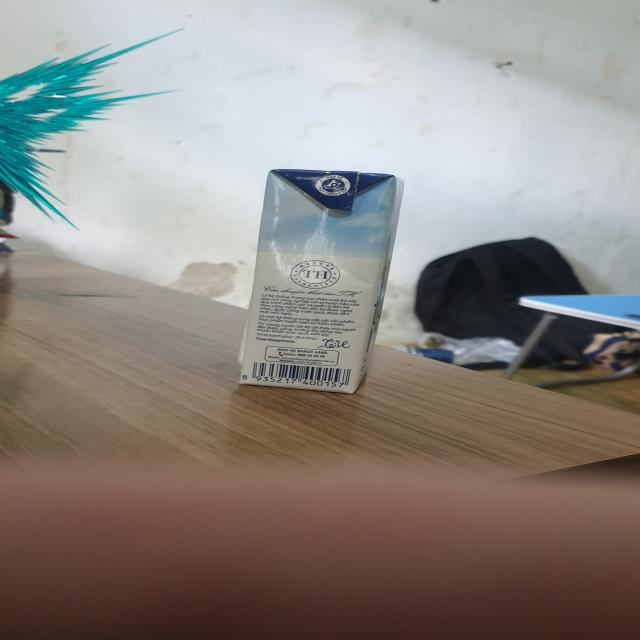TH: (231, 173, 400, 395)
